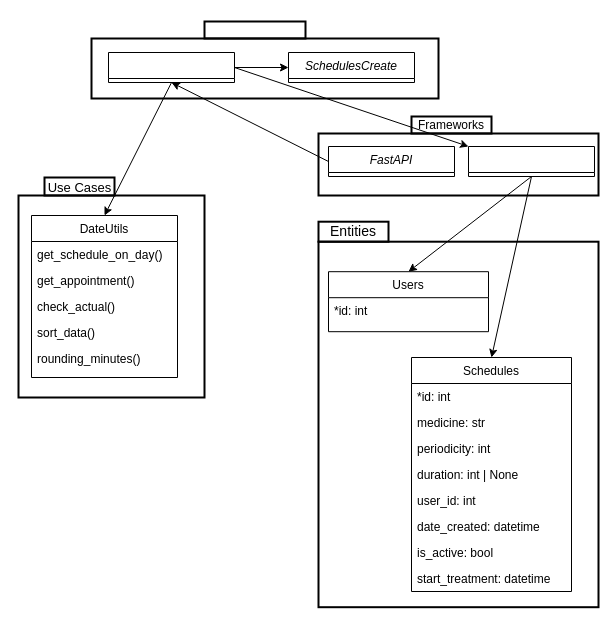
Image size: 616x625. Some labels were removed from this diagram. The shapes that lost their labels are listed below. From the top down, each one's centre as x and y in pixels, then its label:
point 254,29: Interface adapters
point 171,67: API routes
point 531,161: SQLAlchemy
